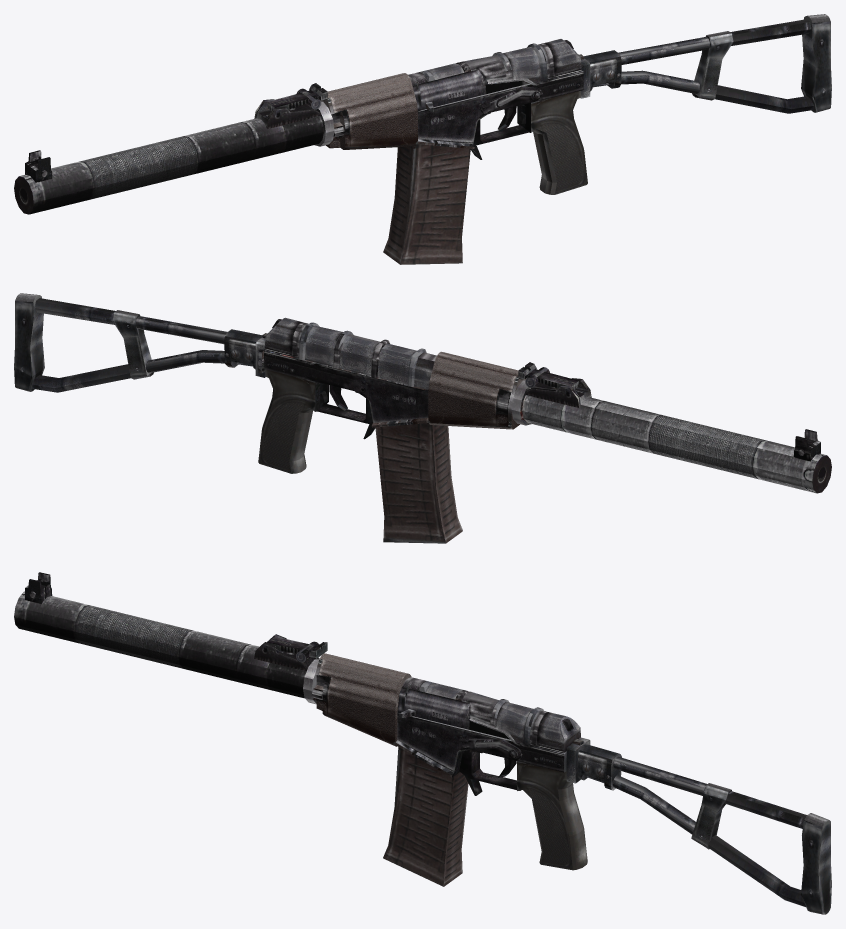
File: w_val.obj
3 renders of one model, top to bottom at view 1: azimuth 30°, elevation 25°; view 2: azimuth 150°, elevation 25°; view 3: azimuth 330°, elevation 25°, orthographic.
Parts seen in each view (by area): view 1: Val; view 2: Val; view 3: Val.
Boxes of the visible parts, x1,y1,x2,y2 form: Val: (14,14,831,264); Val: (14,293,831,543); Val: (14,572,831,914).
Bounding box in the file's own units: 13.2 × 3.17 × 0.7712.
